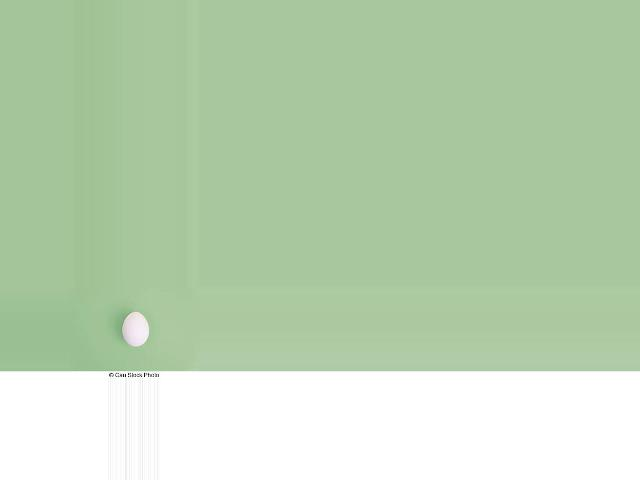egg: (122, 312, 149, 346)
